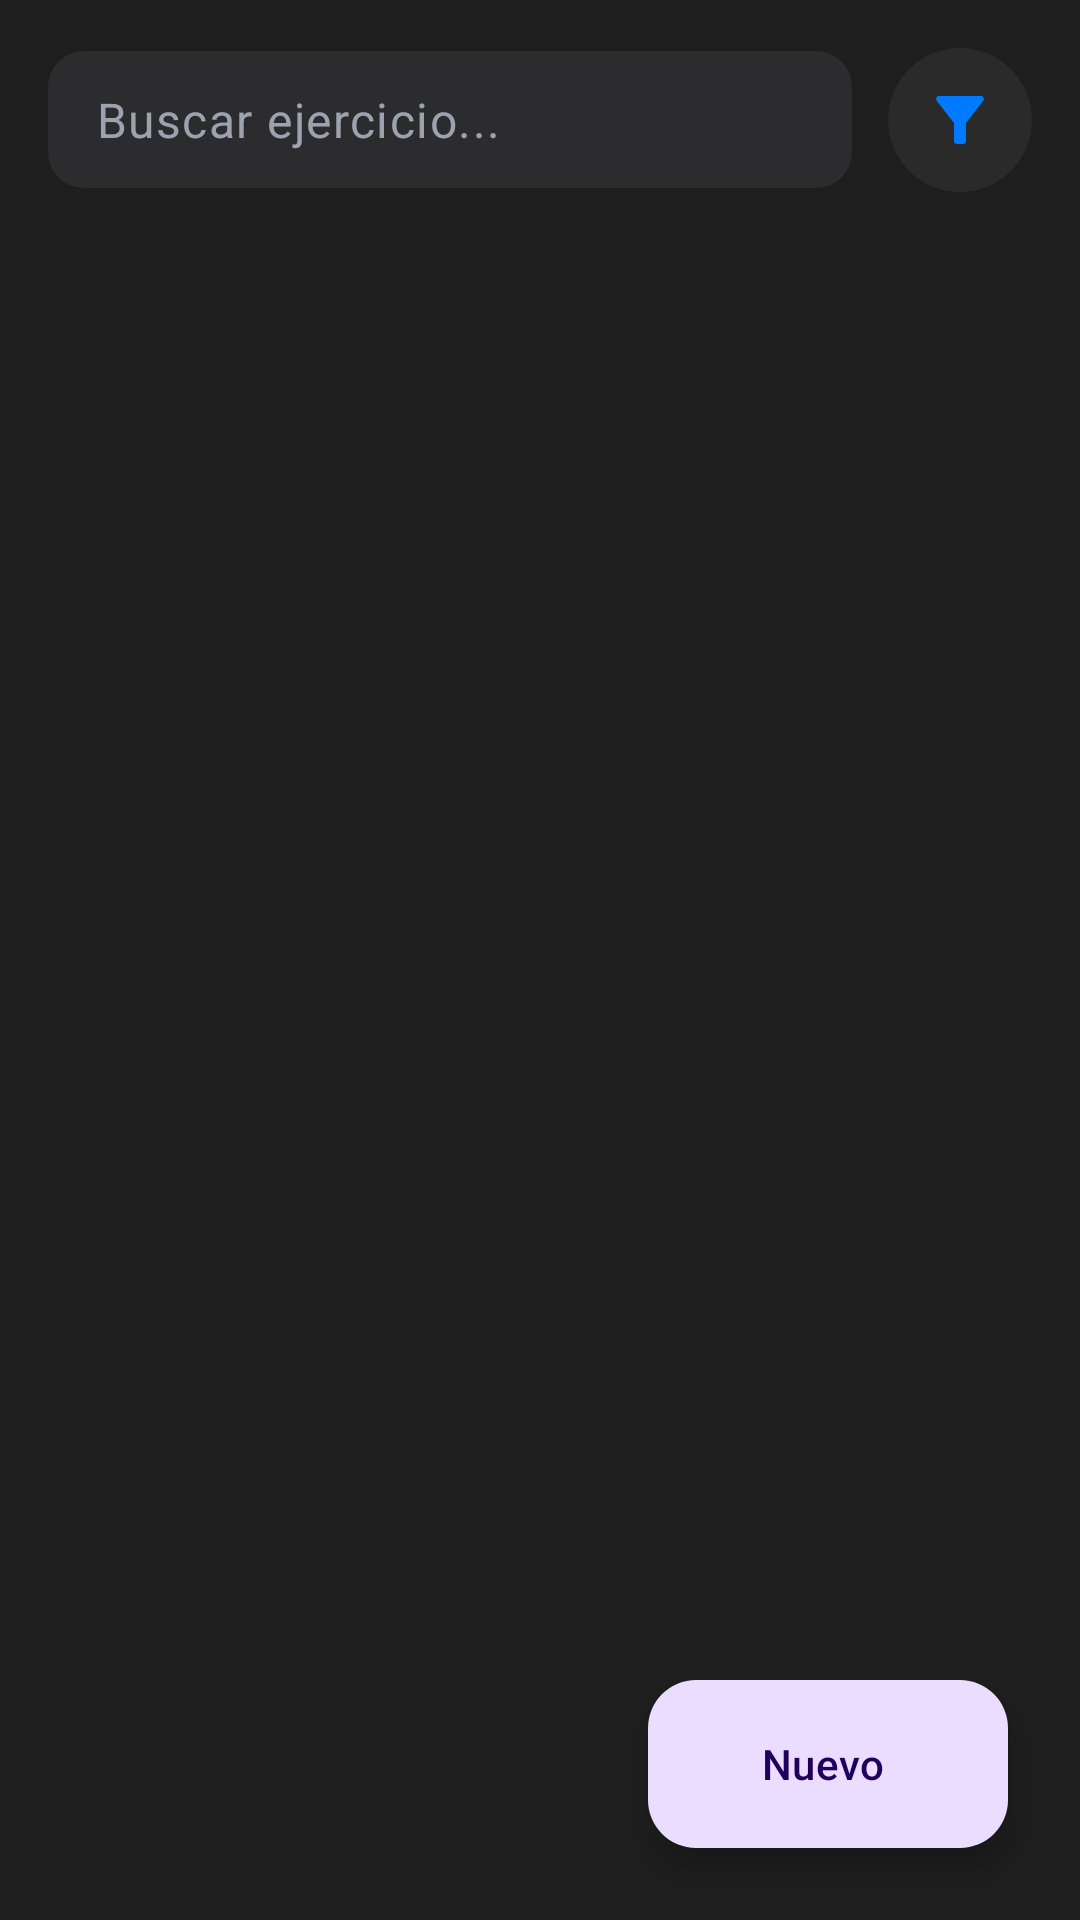

Icons on this 1080px×1920px Android screen, each with the point to tap as point (x, y):
filter: point (960, 120)
